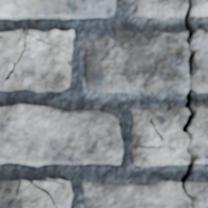brick: (0, 104, 122, 165), (0, 30, 73, 91), (0, 0, 115, 18), (0, 181, 53, 207), (34, 179, 71, 207)
broken_brick: (84, 31, 188, 95), (129, 107, 188, 167), (81, 179, 207, 207), (132, 0, 186, 20), (192, 28, 207, 93), (190, 105, 207, 158), (191, 0, 207, 17), (194, 162, 207, 164)
crack: (176, 0, 207, 205), (5, 29, 56, 81), (28, 180, 58, 207), (7, 180, 21, 206), (39, 178, 66, 185)
